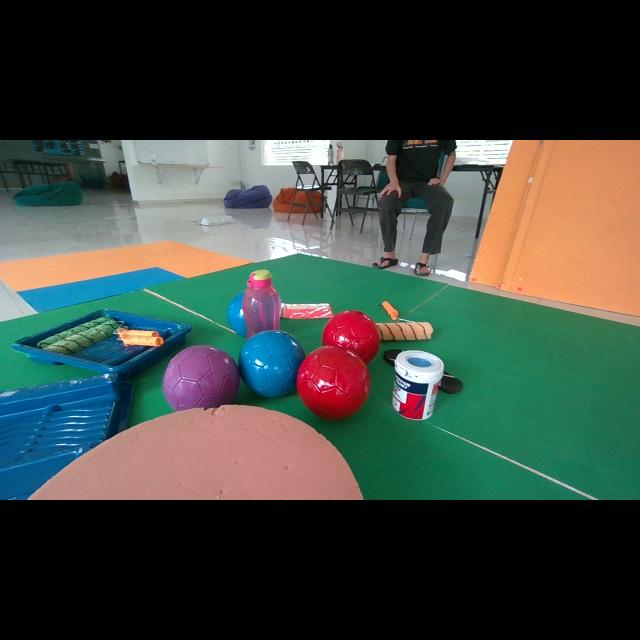B: (239, 330, 305, 398), (226, 291, 248, 338)
P: (162, 345, 240, 411)
R: (298, 345, 370, 419), (322, 310, 381, 364)
